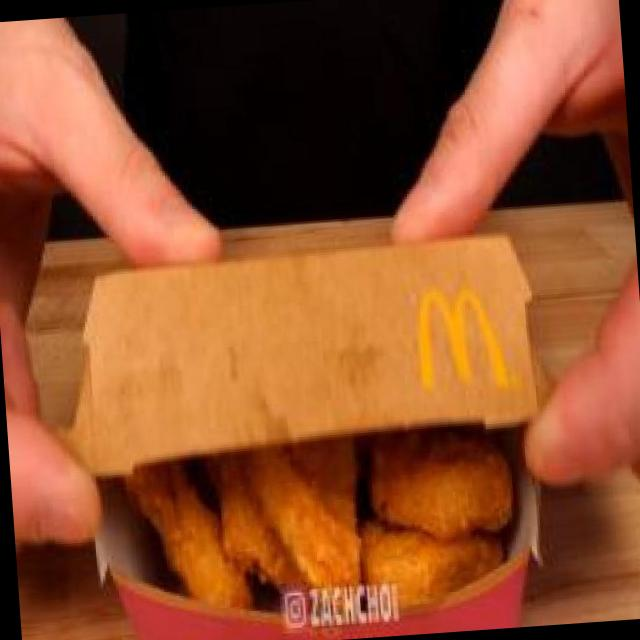nugget: (114, 428, 530, 634)
